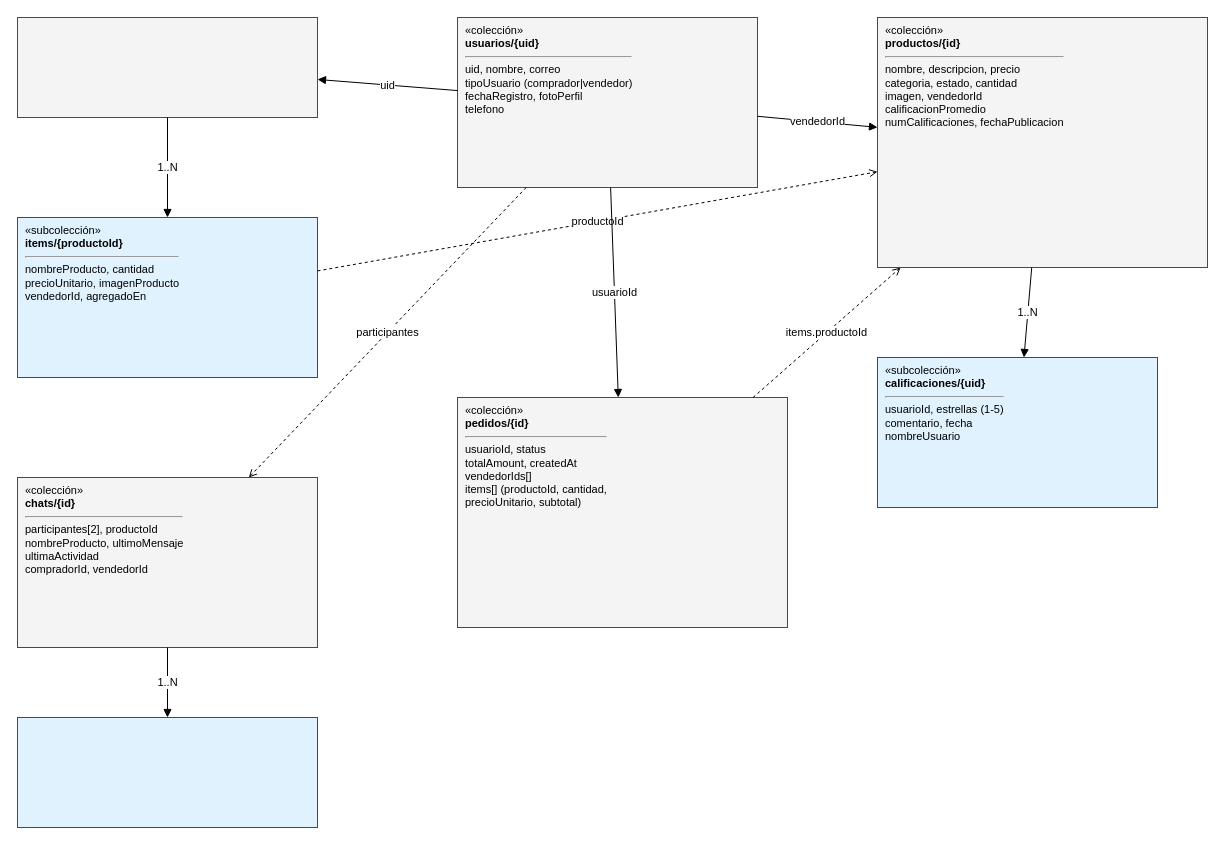
Some shapes in this 1225 by 845 pixel diagram are drawn without their labels. The shapes that lost their labels are listed below. From the top down, each one's centre as x and y in pixels, then its label:
pixel 167 67: «colección» carritos/{uid} uid, fechaActualizacion
pixel 167 772: «subcolección» mensajes/{id} emisorId, texto timestamp, leido
